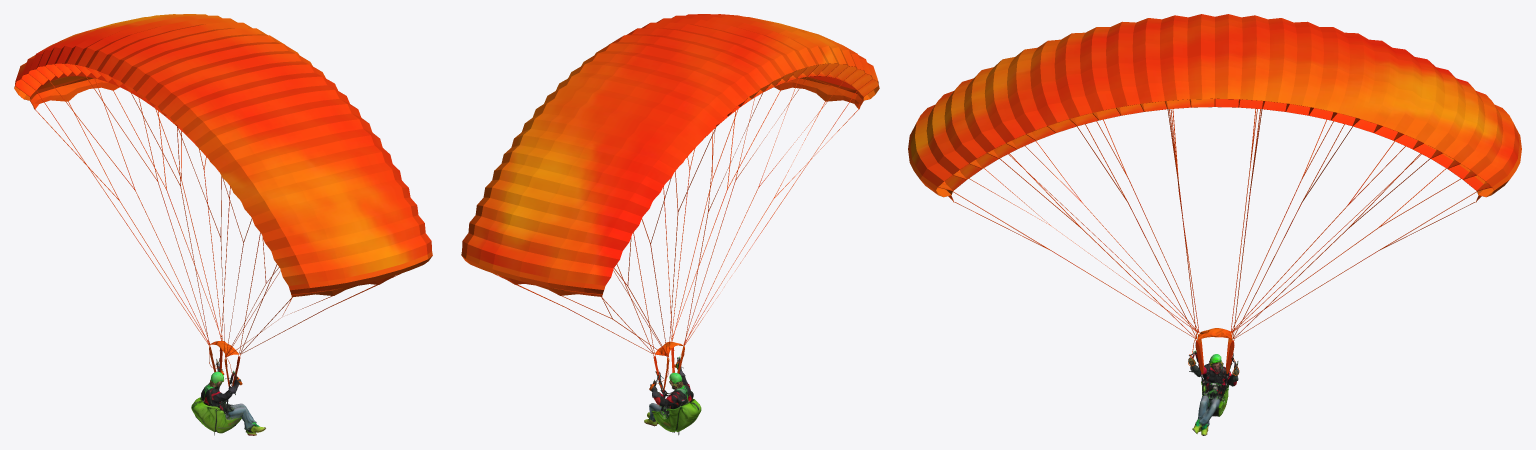
Rendered from paraglider-orange.glb.
3 views of the same model, side by side, from view 1: azimuth 30°, elevation 25°; view 2: azimuth 150°, elevation 25°; view 3: azimuth 270°, elevation 25° (orthographic).
Visible parts, largest first — view 1: Parachute_skinned.mo, Mesh_0; view 2: Parachute_skinned.mo, Mesh_0; view 3: Parachute_skinned.mo, Mesh_0.
Part boxes in pixels (x1=…): Parachute_skinned.mo: x1=14, y1=14, x2=432, y2=386; Mesh_0: x1=191, y1=358, x2=265, y2=435; Parachute_skinned.mo: x1=461, y1=14, x2=879, y2=390; Mesh_0: x1=644, y1=356, x2=701, y2=435; Parachute_skinned.mo: x1=908, y1=14, x2=1521, y2=375; Mesh_0: x1=1188, y1=349, x2=1238, y2=435.
Bounding box in the file's own units: 11.91 × 26.54 × 38.72.
2 materials, 2 textured.
